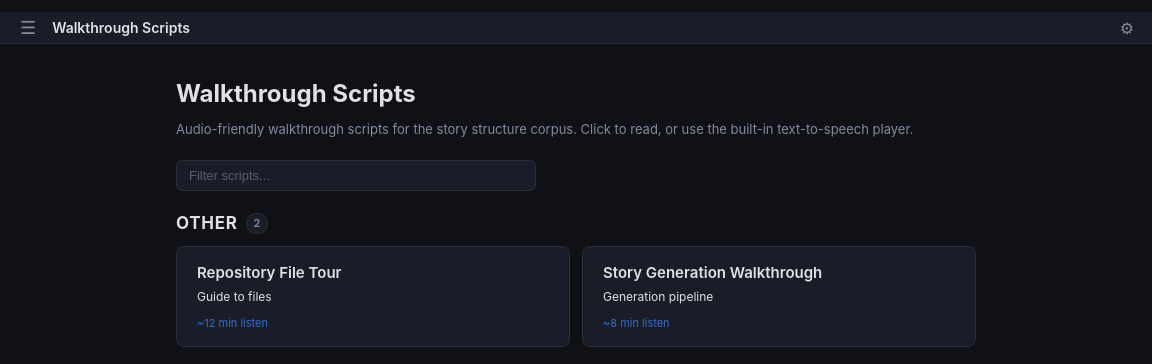
ScriptBrowserPage › filters scripts by title
The image size is (1152, 364).
Type "walkthrough" into the field with placeholder "Filter scripts...". click: [356, 175]
box: [176,160,536,190]
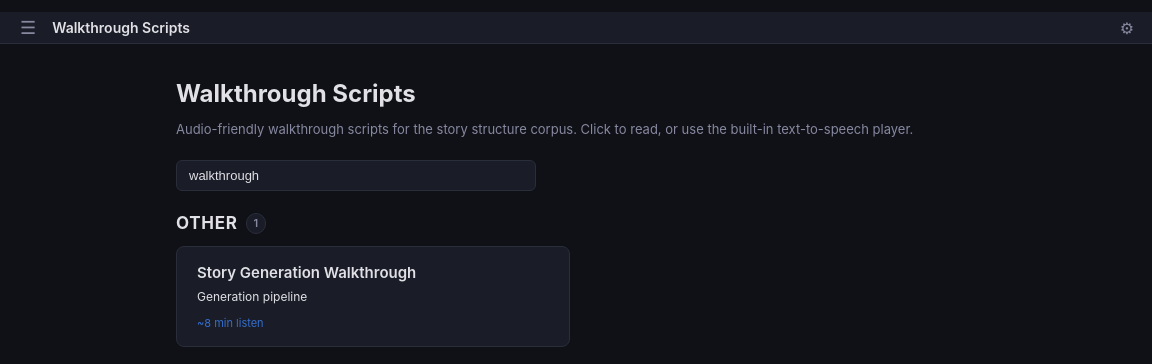
Expected: the text "Story Generation Walkthrough" is shown, [197,263,416,282]
Expected: the list item "Repository File Tour" is gone
